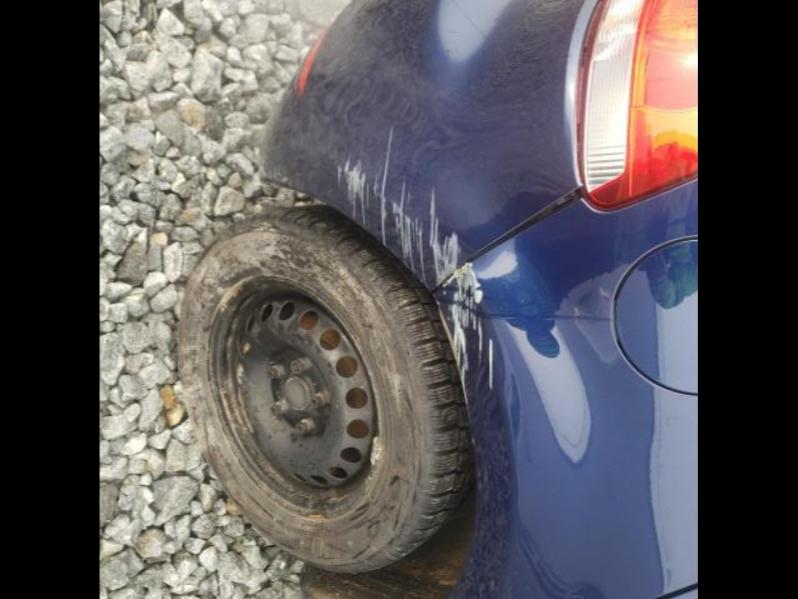Broken part: (432, 0, 604, 292)
Scratch: (328, 122, 484, 423), (488, 336, 494, 394)
